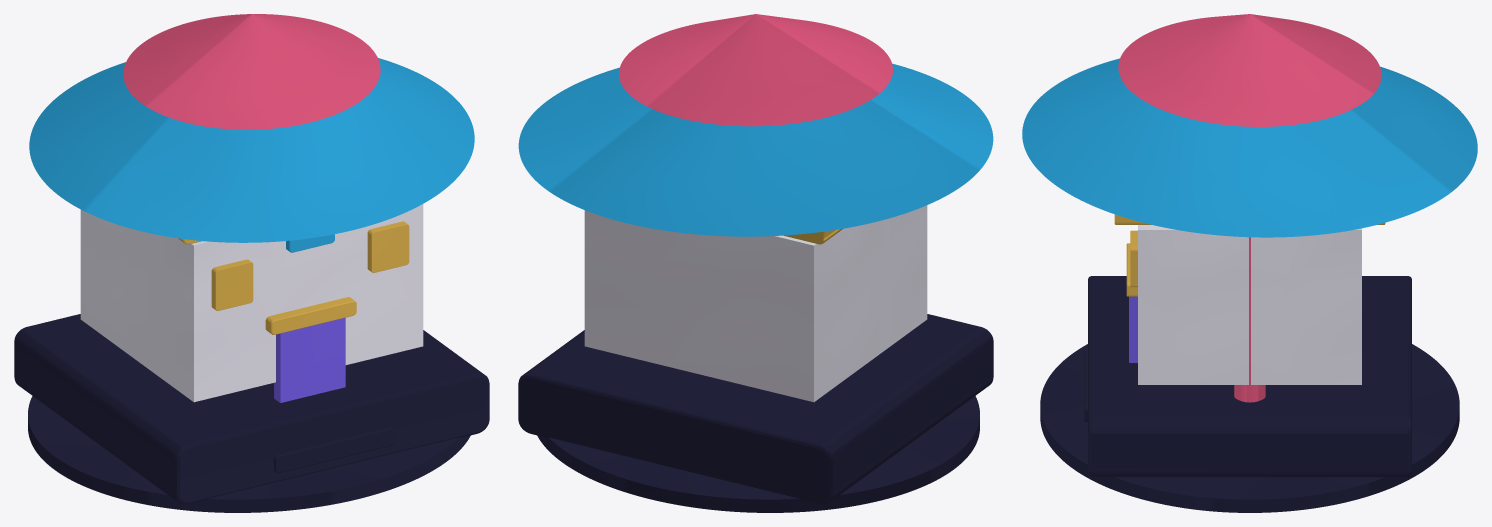
The model's file is 0797_中国建筑图鉴_靠崖式窑洞.glb.
3 views of the same model, side by side, from view 1: azimuth 30°, elevation 25°; view 2: azimuth 150°, elevation 25°; view 3: azimuth 270°, elevation 25° (orthographic).
Visible parts, largest first — view 1: card_0797; view 2: card_0797; view 3: card_0797.
Part boxes in pixels (bbox=[...]): card_0797: bbox=[14, 14, 489, 512]; card_0797: bbox=[518, 14, 993, 512]; card_0797: bbox=[1022, 14, 1477, 512].
Bounding box in the file's own units: 1.02 × 1 × 1.02.
